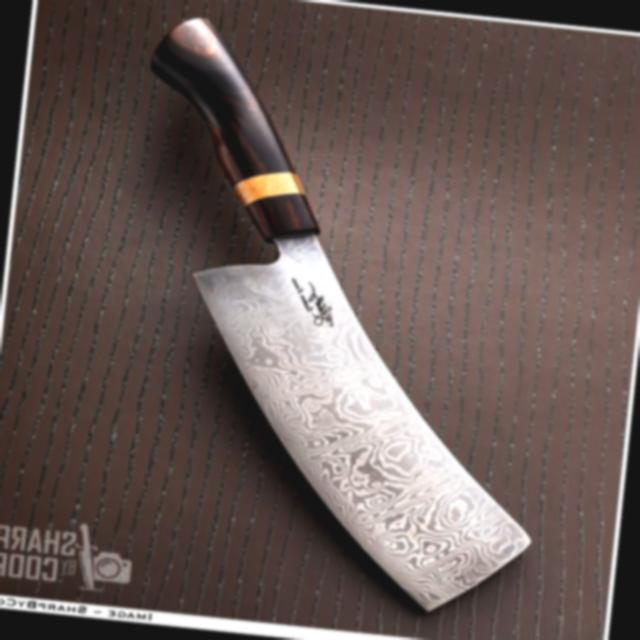cleaver: (70, 0, 581, 624)
